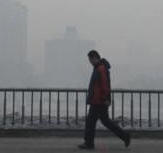person: (76, 48, 131, 150)
